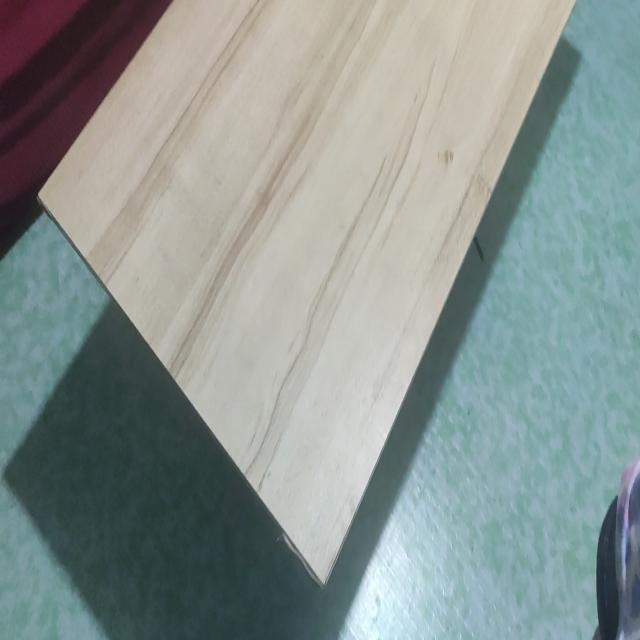table: (36, 2, 582, 587)
